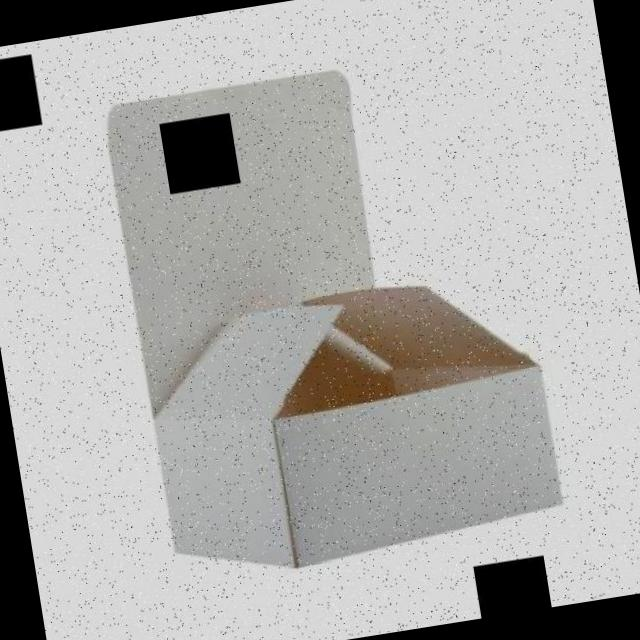box: (84, 34, 577, 595)
